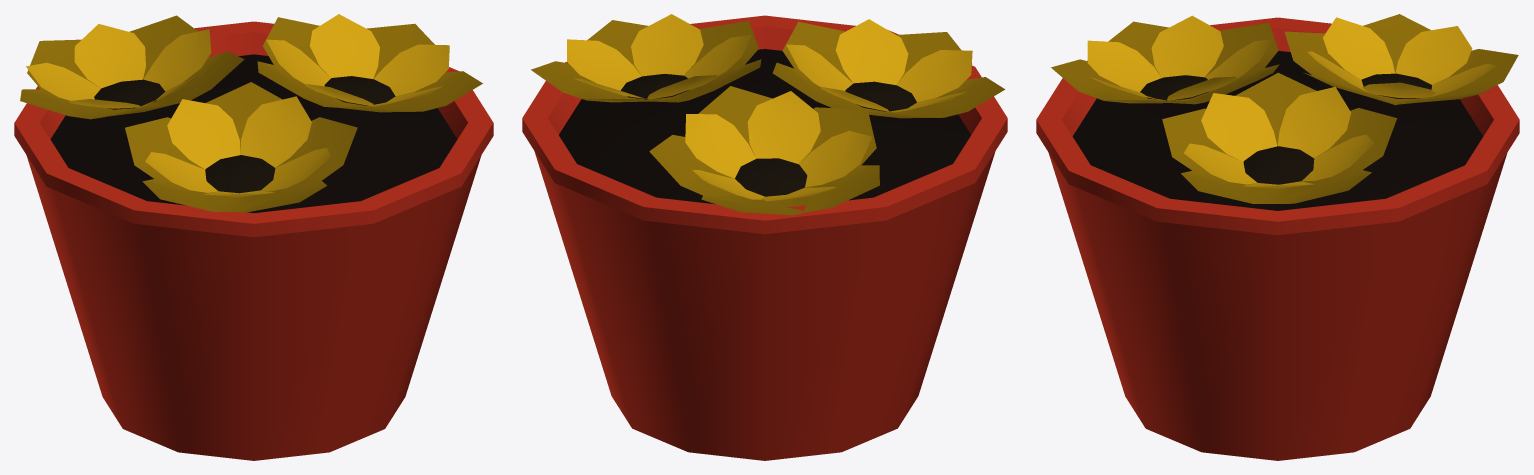
The model's file is Prop_FlowerPot.fbx.
3 views of the same model, side by side, from view 1: azimuth 30°, elevation 25°; view 2: azimuth 150°, elevation 25°; view 3: azimuth 270°, elevation 25° (orthographic).
Visible parts, largest first — view 1: Prop_FlowerPot; view 2: Prop_FlowerPot; view 3: Prop_FlowerPot.
Part boxes in pixels (x1,y1,x2,y2): Prop_FlowerPot: (14,14,493,460); Prop_FlowerPot: (522,14,1007,460); Prop_FlowerPot: (1036,14,1519,460).
Bounding box in the file's own units: 19.68 × 14.81 × 19.68.
